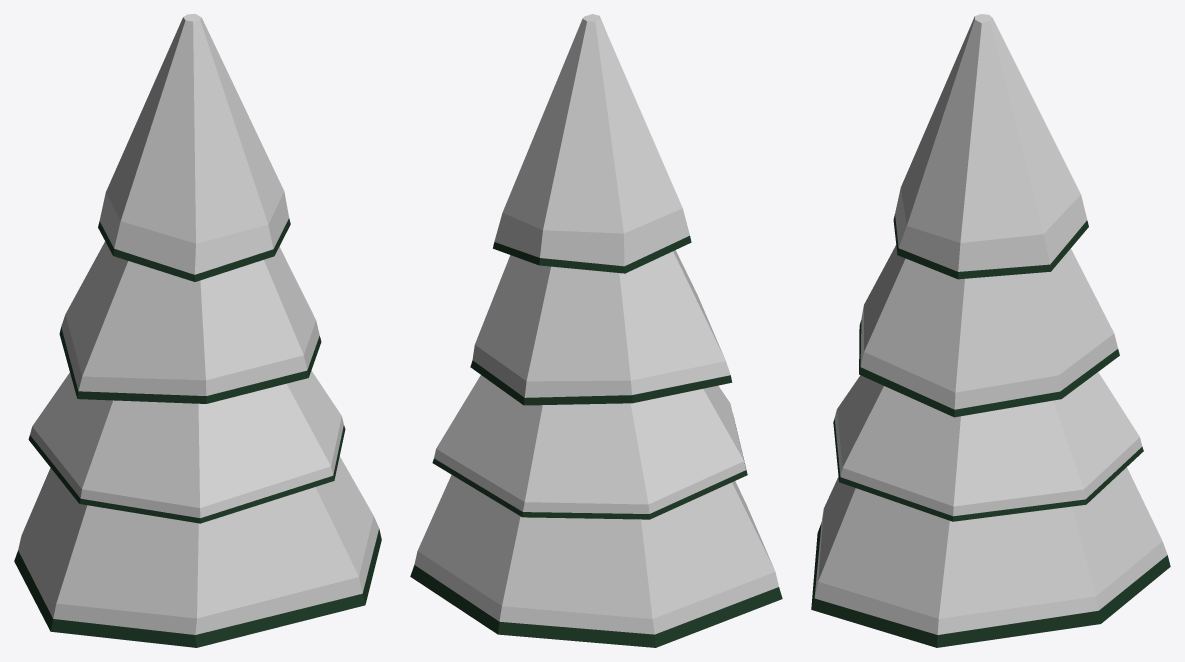
Rendered from tree_snowed03.glb.
3 renders of one model, left to right at view 1: azimuth 30°, elevation 25°; view 2: azimuth 150°, elevation 25°; view 3: azimuth 270°, elevation 25°, orthographic.
Parts seen in each view (by area): view 1: Cylinder; view 2: Cylinder; view 3: Cylinder.
Boxes of the visible parts, left/top/right/bottom form: Cylinder: left=14, top=14, right=381, bottom=647; Cylinder: left=410, top=14, right=782, bottom=647; Cylinder: left=811, top=14, right=1170, bottom=647.
Size of the model in its own units: 1.62 by 2.77 by 1.51.
